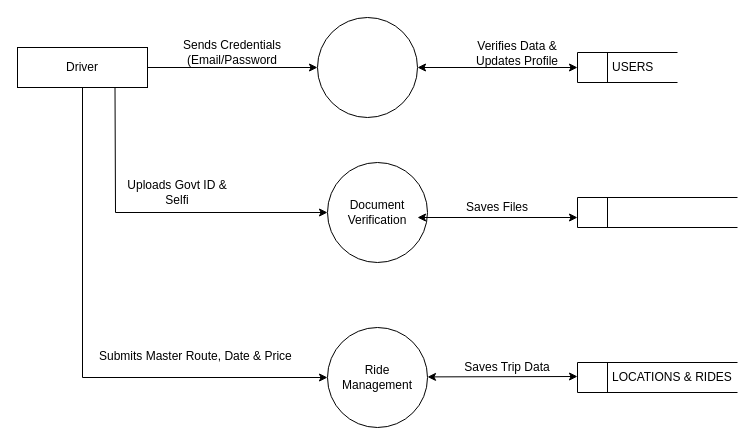
The diagram is 755 pixels wide and 445 high, and some of its shapes have lost their labels. Here are the shapes that lost their labels. From the top down, the centre of each, then its label:
the point at 367,67: User Authentication
the point at 657,212: USER_DOCS
